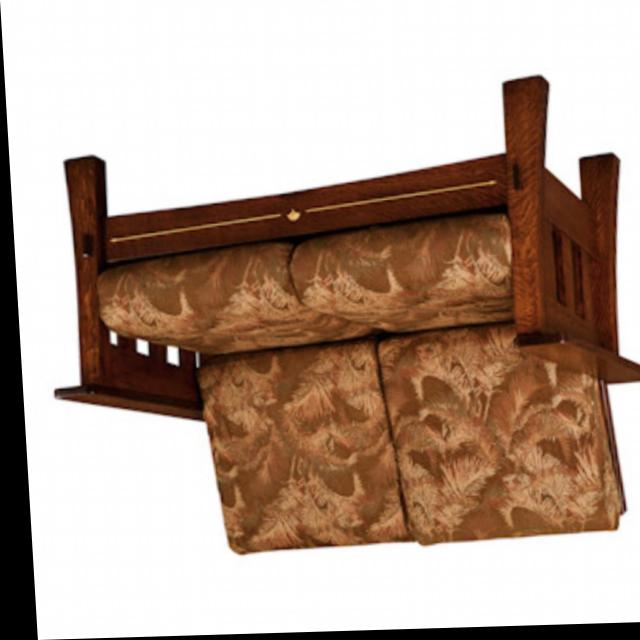Sofa: (34, 78, 640, 561)
